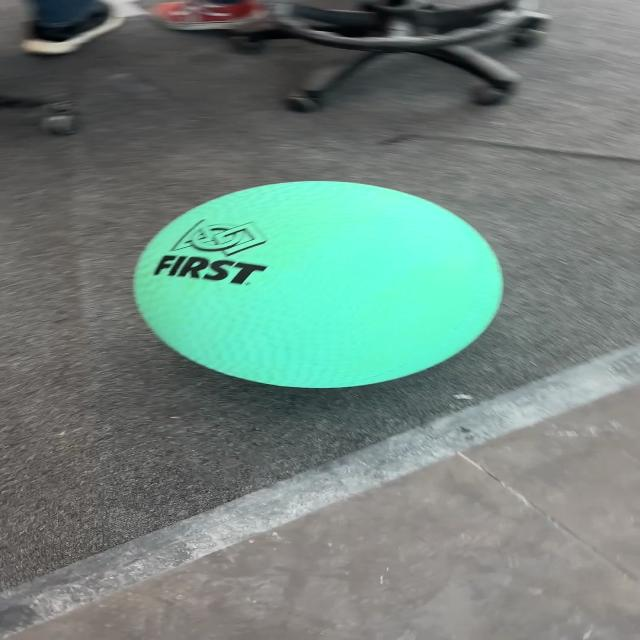Algae: (131, 179, 505, 389)
